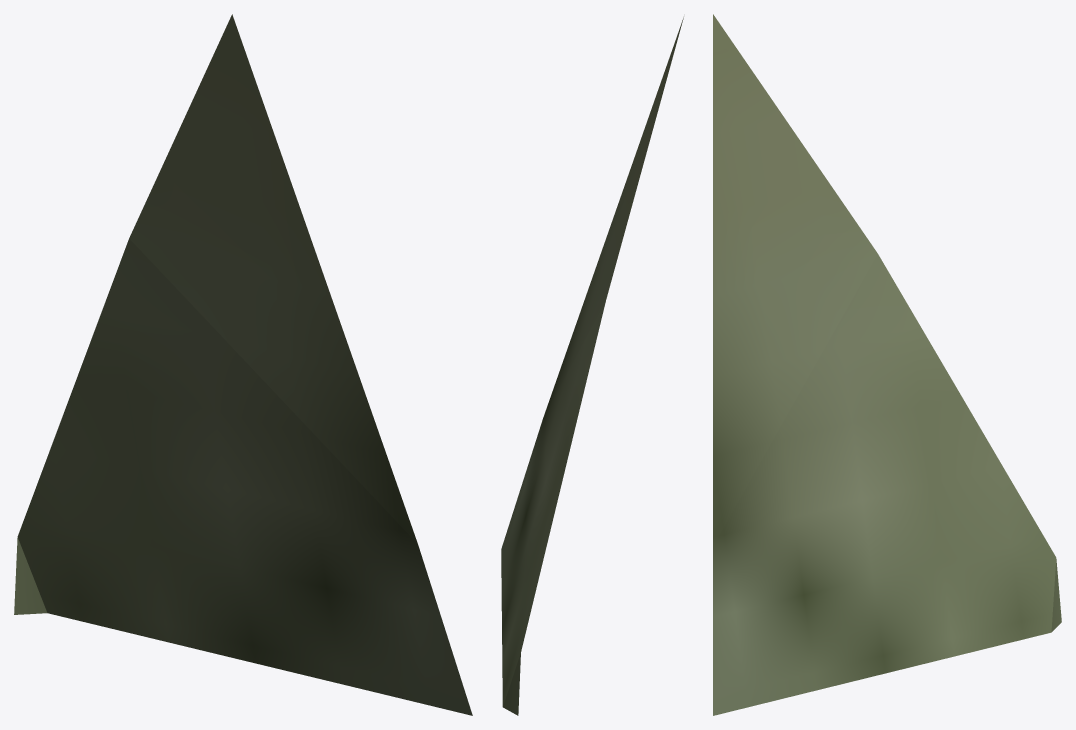
The picture shows the model from 3 angles, left to right: view 1: azimuth 30°, elevation 25°; view 2: azimuth 150°, elevation 25°; view 3: azimuth 270°, elevation 25°; orthographic projection. The views are drawn at different scales.
Bounding box in the file's own units: 0.0628 × 0.1896 × 0.0986.
1 material, 1 textured.
